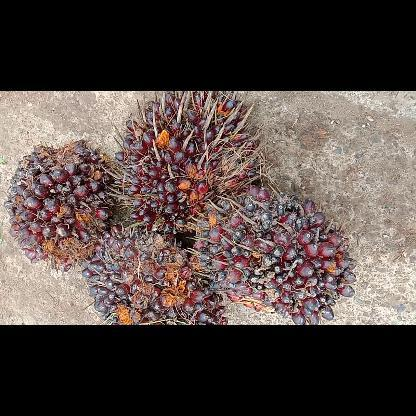Kurang masak: (188, 178, 362, 324), (112, 90, 262, 235), (4, 138, 120, 276), (82, 223, 230, 324)
